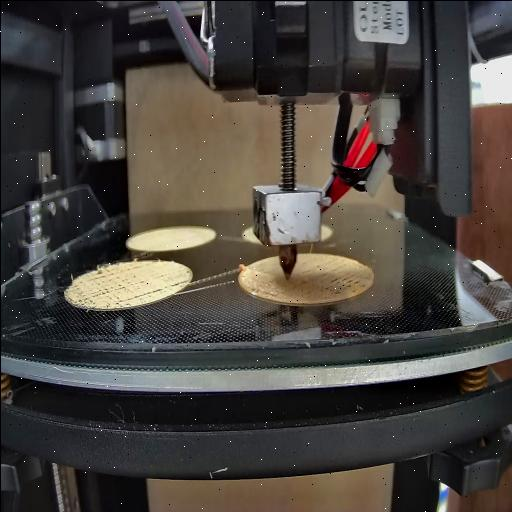under_extrusion: (70, 264, 164, 302), (304, 260, 367, 296), (248, 284, 280, 304), (169, 276, 187, 292)
